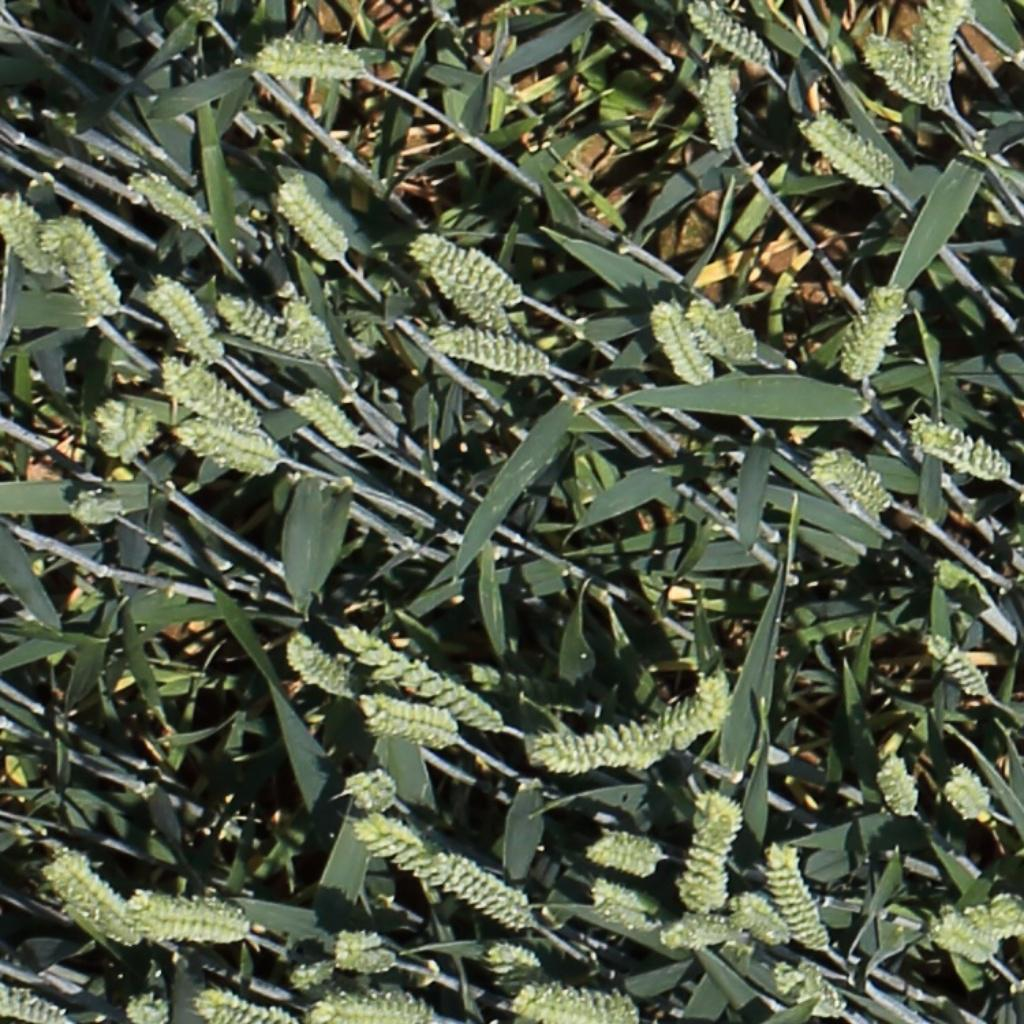0-0: (348, 814, 526, 923), (340, 638, 518, 743), (631, 657, 735, 770), (39, 212, 131, 327), (406, 232, 535, 314), (525, 719, 681, 779), (904, 404, 1015, 488), (676, 783, 746, 914), (420, 317, 558, 381), (833, 277, 914, 382), (763, 842, 838, 954), (432, 852, 540, 929), (158, 360, 268, 435), (104, 892, 258, 944), (166, 413, 286, 479), (463, 663, 604, 719), (139, 265, 219, 363), (40, 840, 124, 928), (485, 939, 575, 1020), (0, 188, 73, 282), (807, 439, 896, 515), (929, 892, 1023, 963), (864, 29, 945, 111), (358, 693, 467, 753), (271, 177, 348, 260), (503, 981, 647, 1024), (253, 32, 379, 81), (425, 267, 516, 334), (802, 113, 891, 181), (648, 296, 711, 390), (210, 294, 304, 354), (278, 276, 338, 365), (582, 823, 671, 881), (918, 2, 979, 86), (305, 987, 442, 1024), (686, 5, 768, 66), (921, 632, 991, 703), (682, 296, 761, 358), (283, 949, 411, 987), (282, 386, 356, 449), (282, 633, 352, 699), (726, 889, 799, 948), (770, 961, 845, 1017), (126, 173, 202, 228), (658, 909, 751, 950), (192, 992, 306, 1024), (330, 761, 400, 813), (707, 60, 745, 154), (942, 758, 996, 824), (591, 880, 660, 931), (65, 481, 136, 530), (0, 988, 91, 1024), (876, 749, 918, 824), (105, 406, 157, 466), (88, 400, 139, 460), (330, 927, 400, 956), (121, 989, 176, 1024), (1001, 98, 1024, 171)
